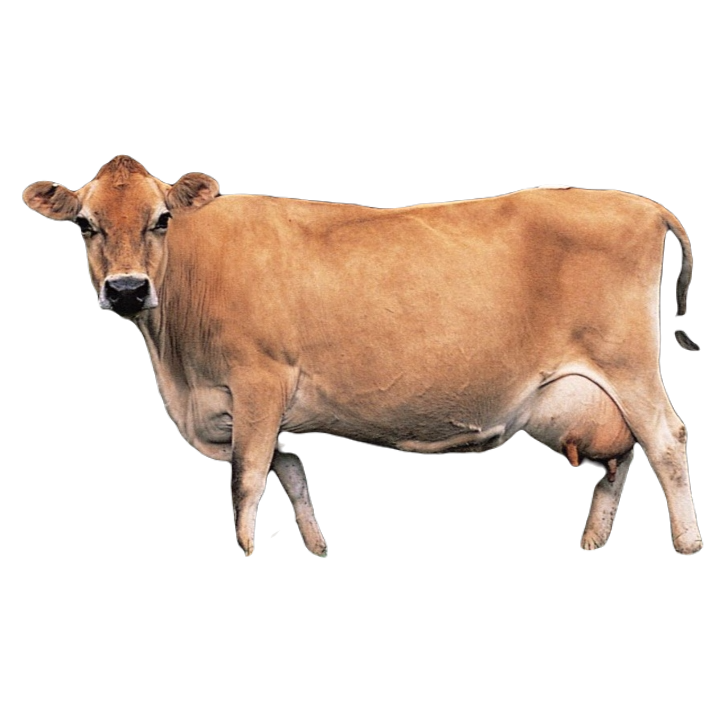Cow: (27, 152, 706, 556)
